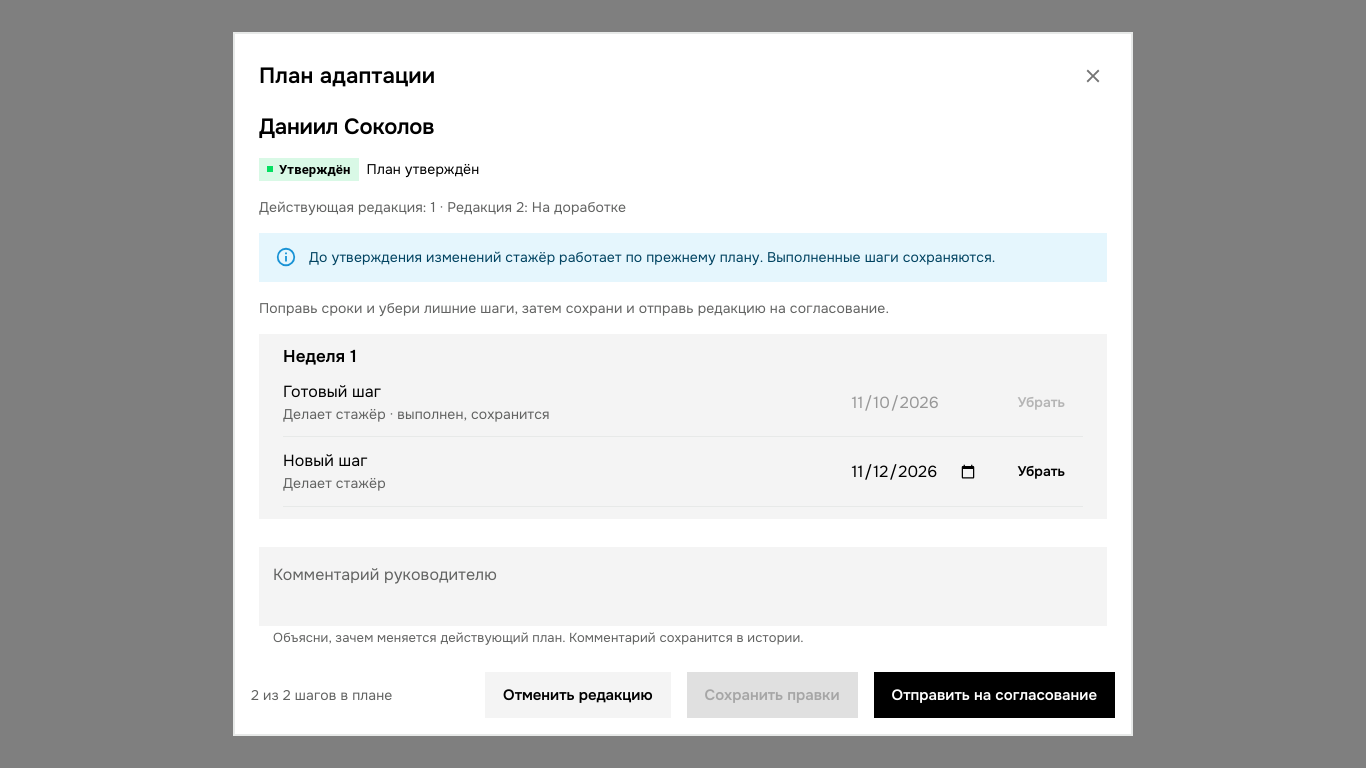
Scenario: Полный цикл плана (SCR-L2) › отменяет новую редакцию, оставляя действующую
Click the button "Отменить редакцию": click(578, 695) [485,672,671,718]
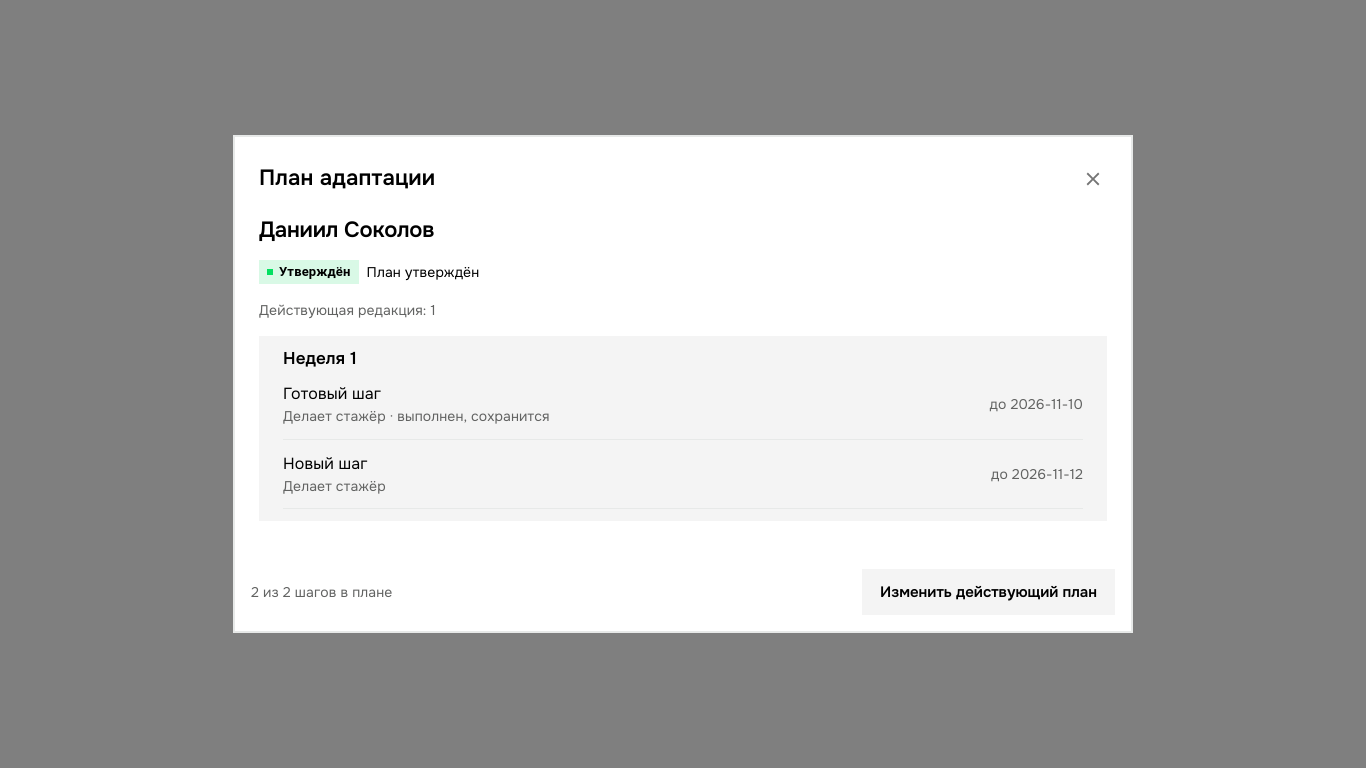
Result: the button "Изменить действующий план" is shown at [862,569,1115,615]
